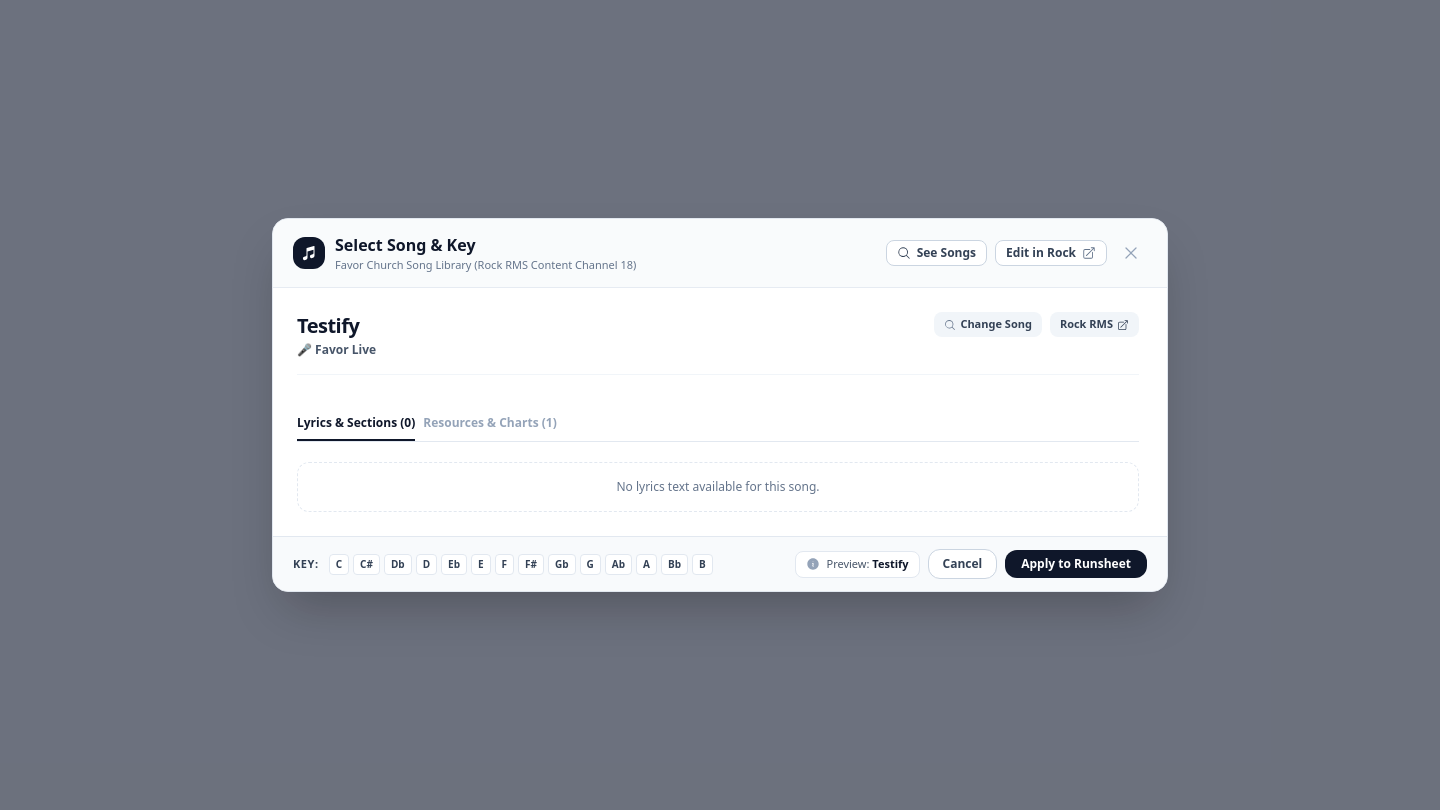
Test: SongDetailModal › renders embedded YouTube player and copyable URL in Resources & Charts tab
Expected: the text "Testify" is shown, x1=872 y1=556 x2=908 y2=571
# Switch to Resources & Charts tab
Click the button "Resources & Charts (1)" at (490, 428), box x1=423 y1=415 x2=557 y2=441
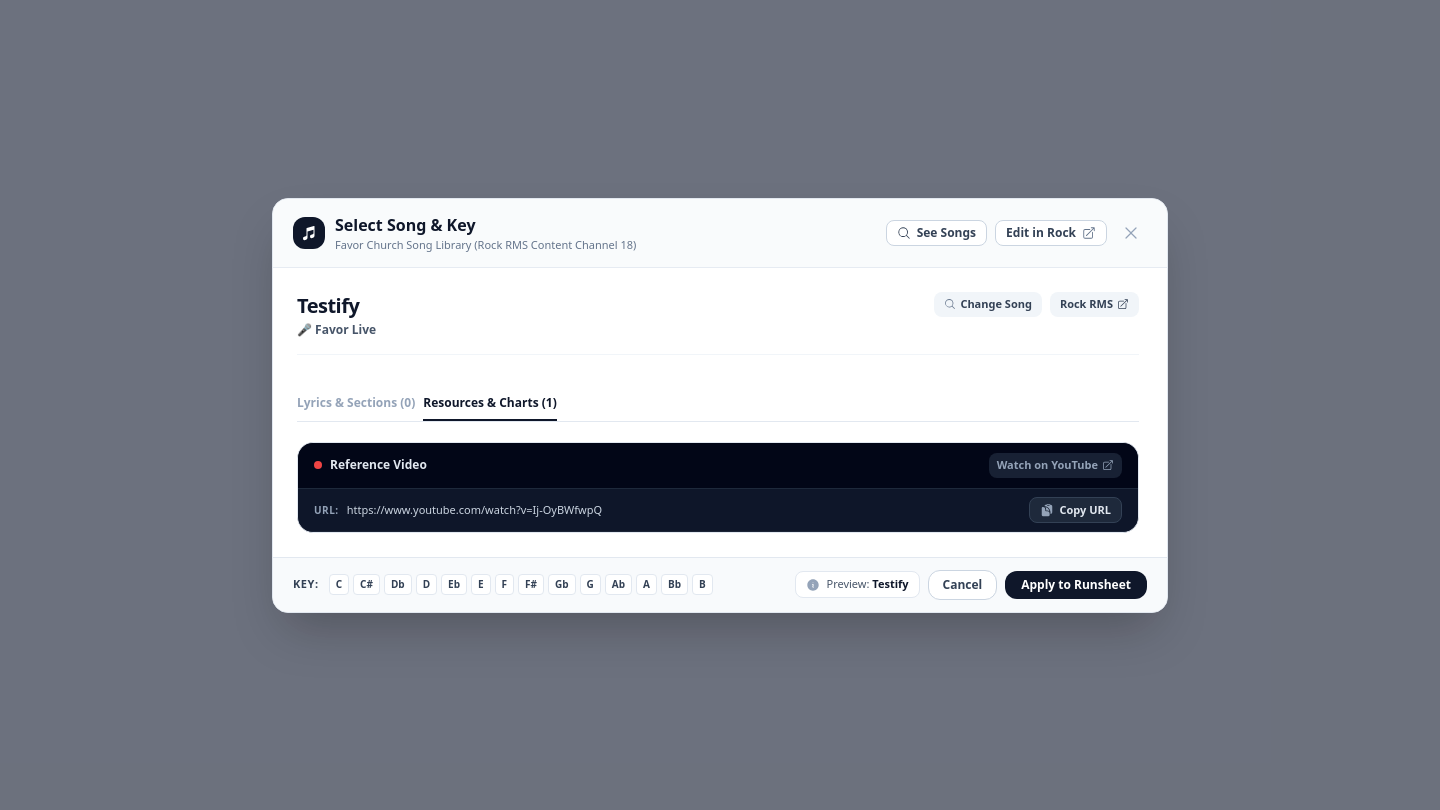
Result: the text "Watch on YouTube" is shown at x1=997 y1=457 x2=1098 y2=474
Result: the text "https://www.youtube.com/watch?v=Ij-OyBWfwpQ" is shown at x1=347 y1=502 x2=602 y2=518
# Test Copy URL button
Click the button "Copy URL" at (1075, 510), box x1=1028 y1=496 x2=1122 y2=522
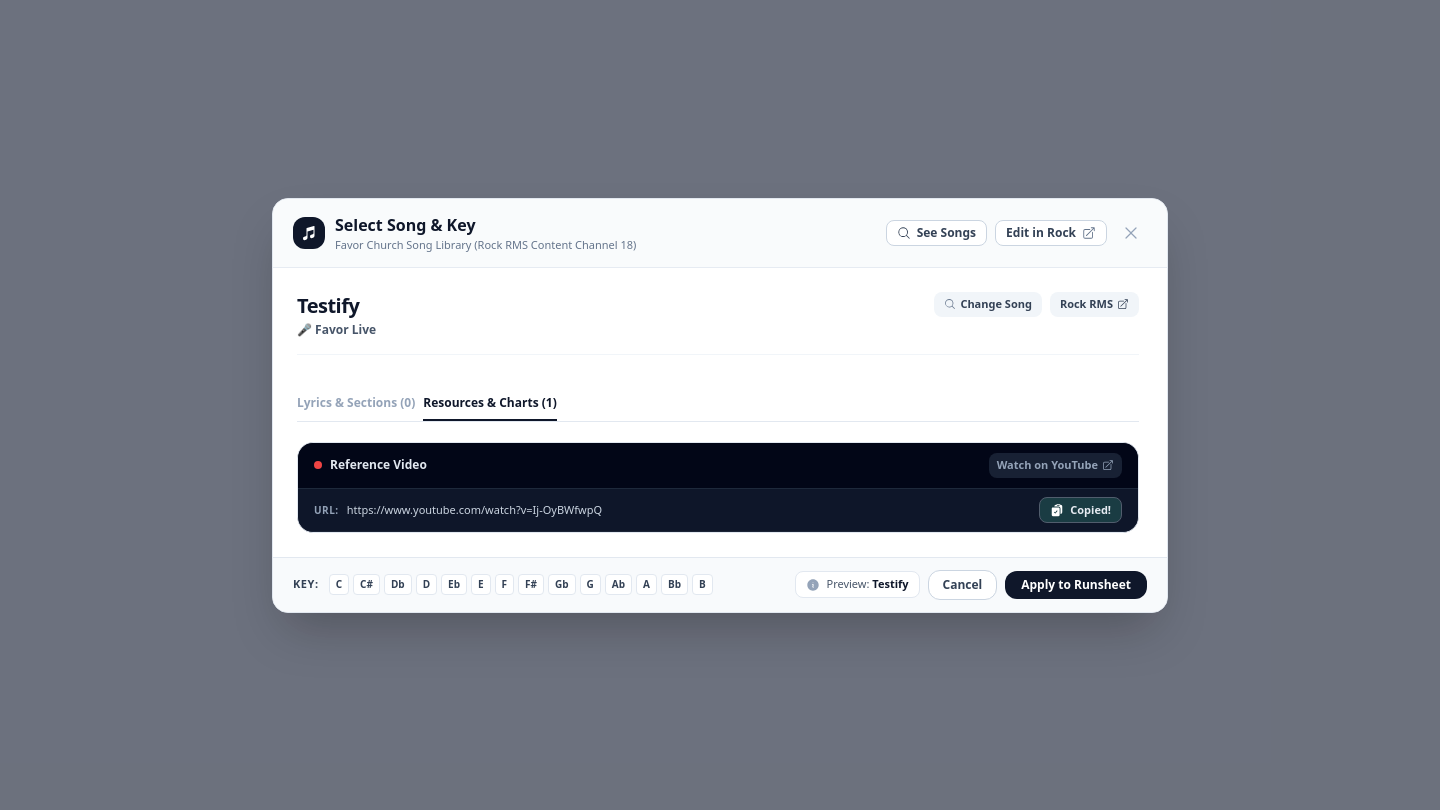
Result: the text "Copied!" is shown at x1=1070 y1=502 x2=1111 y2=518
